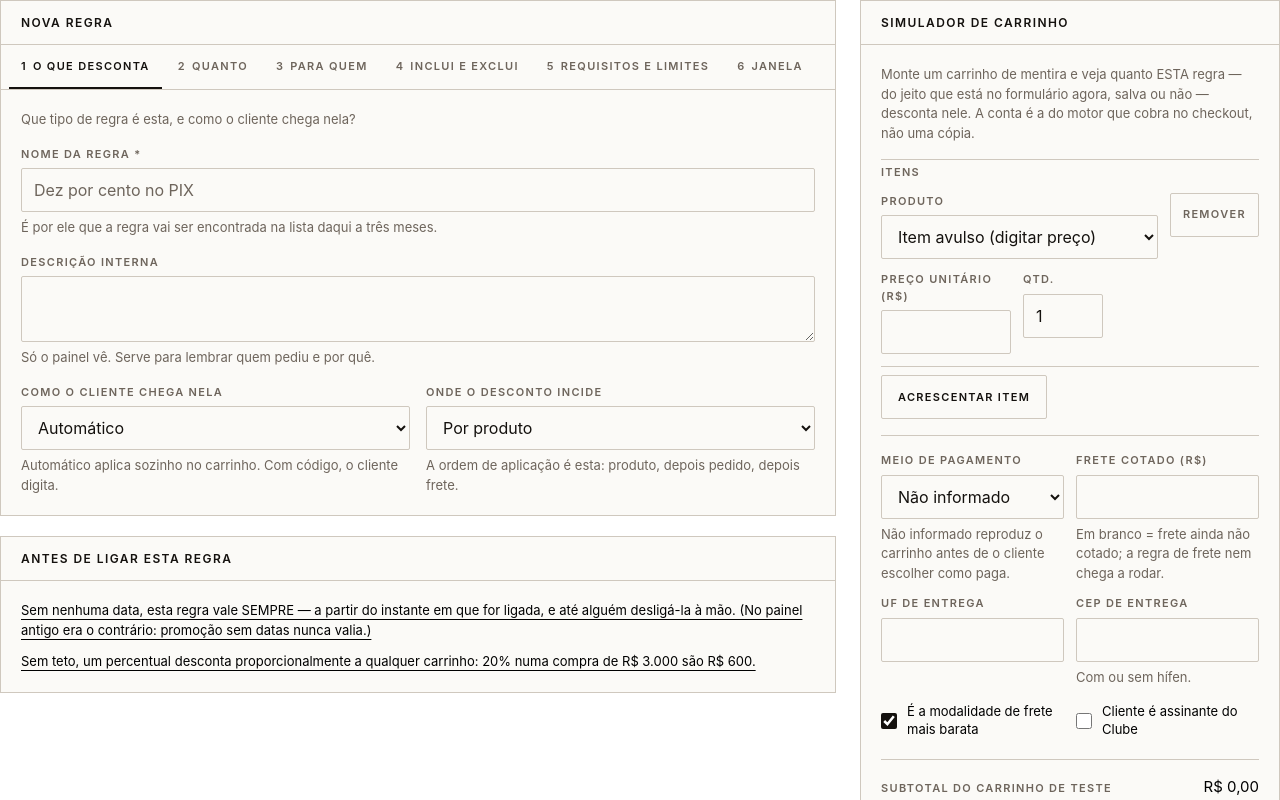
Scenario: o brinde aparece e não se escolhe › e a tela diz por que ela está indisponível
The width and height of the screenshot is (1280, 800).
Click the tab "2 Quanto". click: (213, 67)
box: [166,45,260,89]
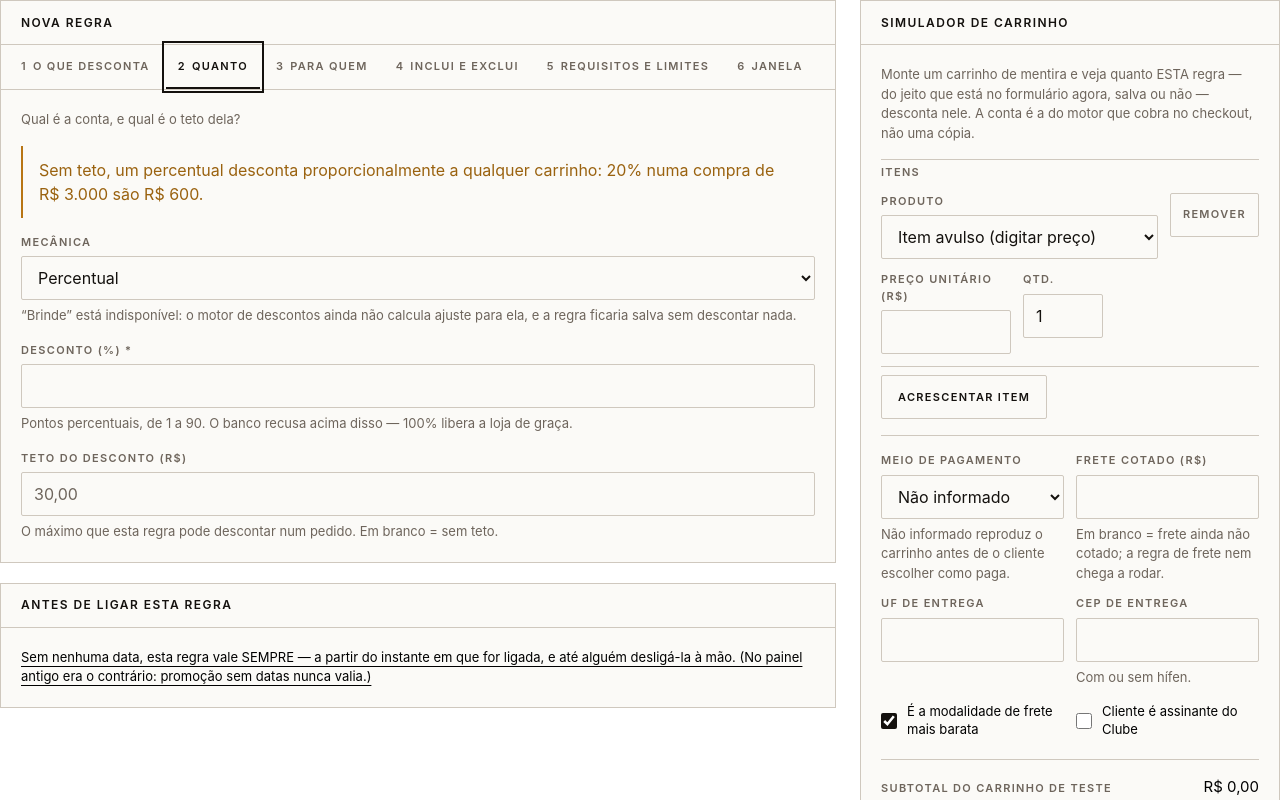
Check: the text "ainda não calcula ajuste para ela" is shown, box [21,307,796,323]
